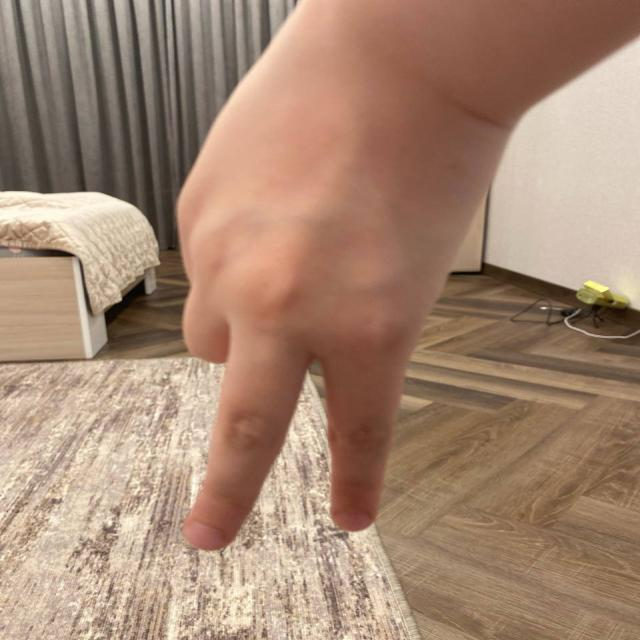l: (131, 66, 493, 552)
